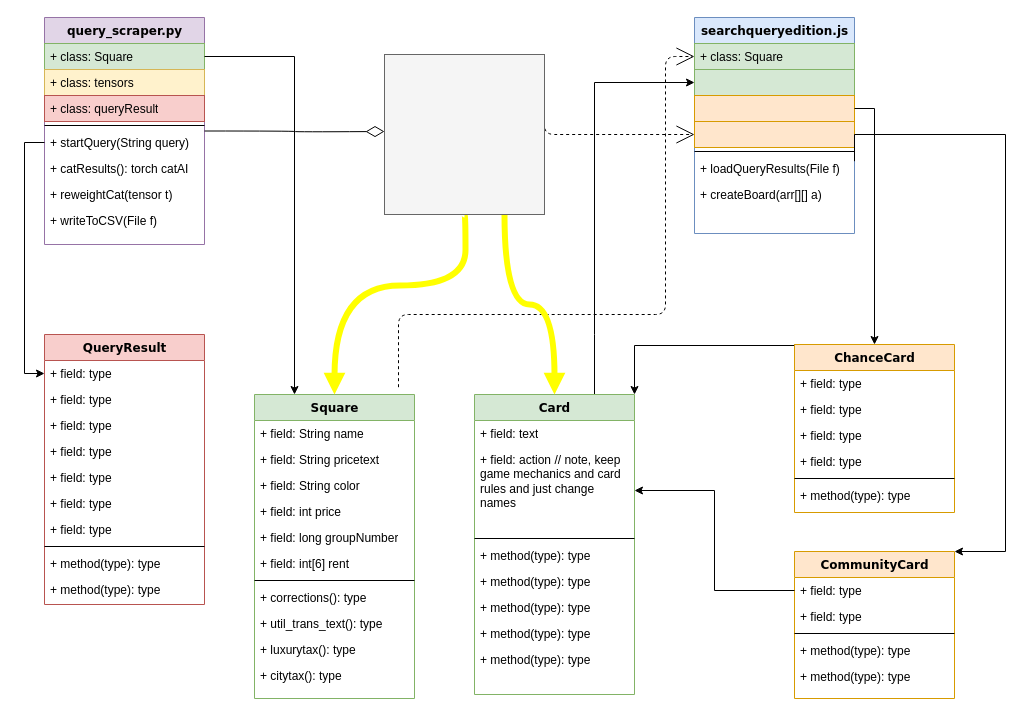
This 1031x716 diagram has some shape labels left out. The centre of each missing label's shape, as x and y in pixels:
+ class: Card: (x=774, y=82)
+ var: ChanceCard: (x=774, y=108)
+ var: CommunityCard: (x=774, y=134)
TEMPFILE.csv Stores Query data in a 2D array Denoted ',' | \n': (x=464, y=134)
